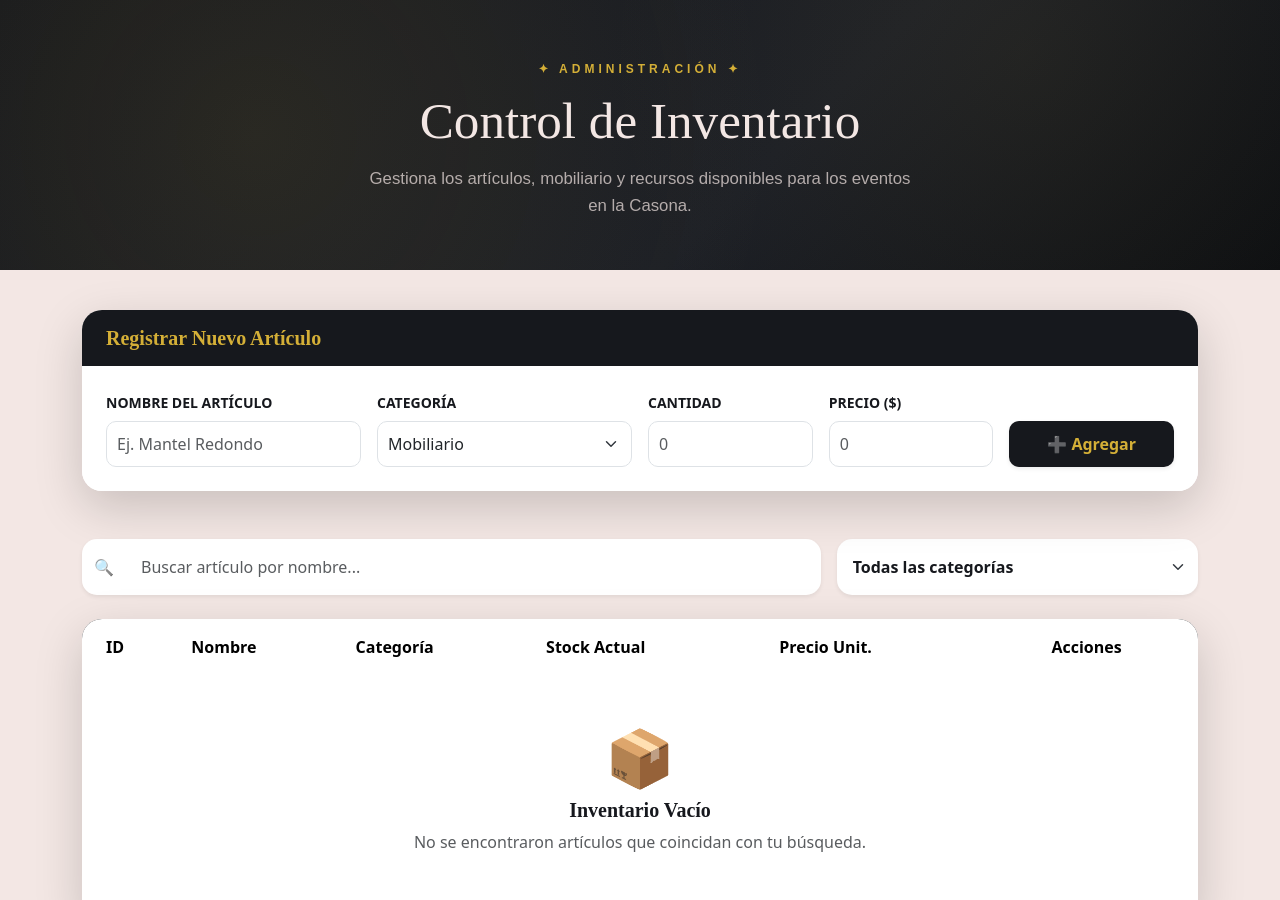
Test: CP-00X: Pruebas de Gestión de Inventario/Stock - Frontend › 2. Debe capturar datos en el formulario y permitir agregar un nuevo artículo
Simulamos que el admin escribe un nuevo producto
In the field with placeholder "Ej. Mantel Redondo": (234, 444) [106,421,361,467], type "Mesa Imperial"
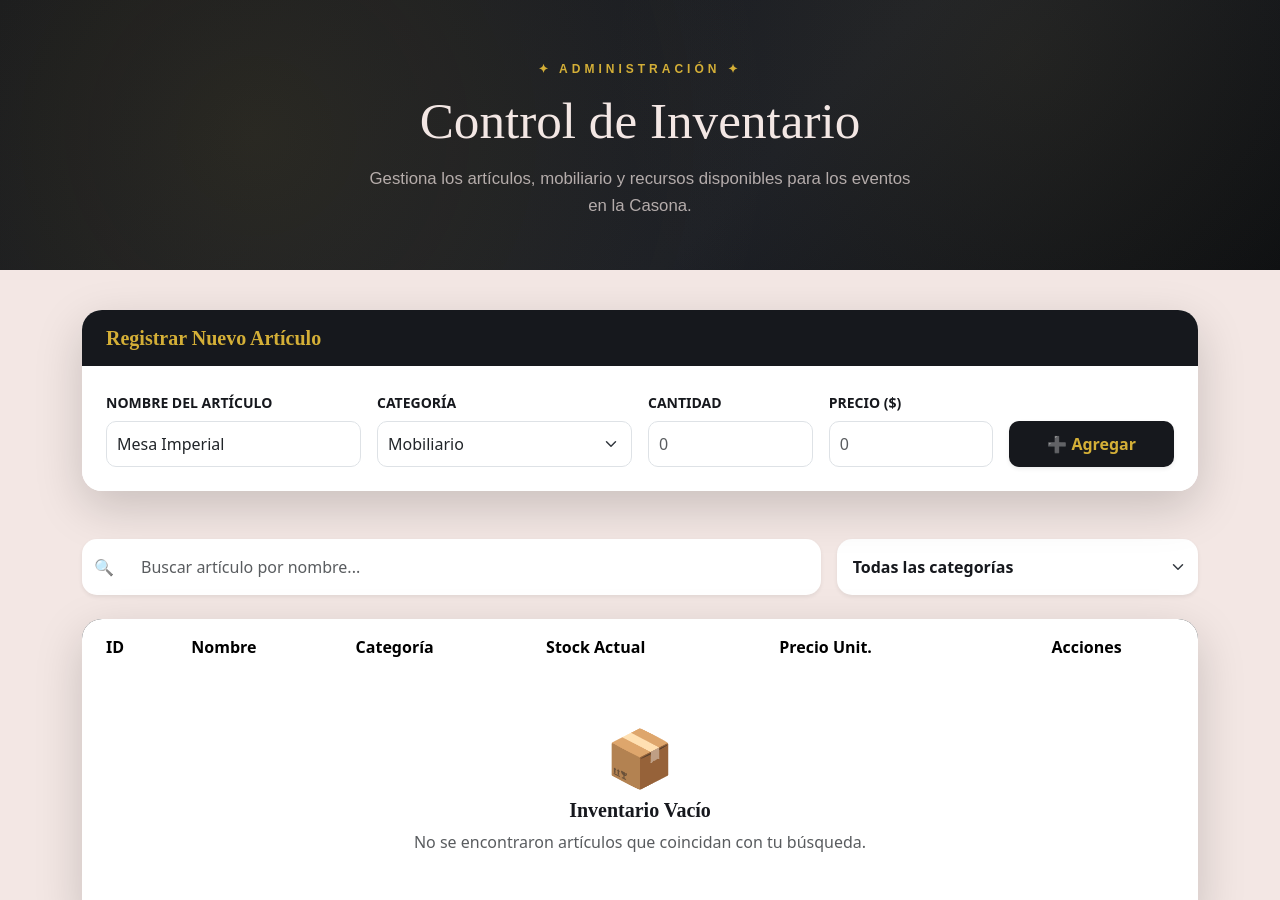
In the number field with placeholder "0" below "CANTIDAD": (730, 444) [648,421,813,467], type "10"
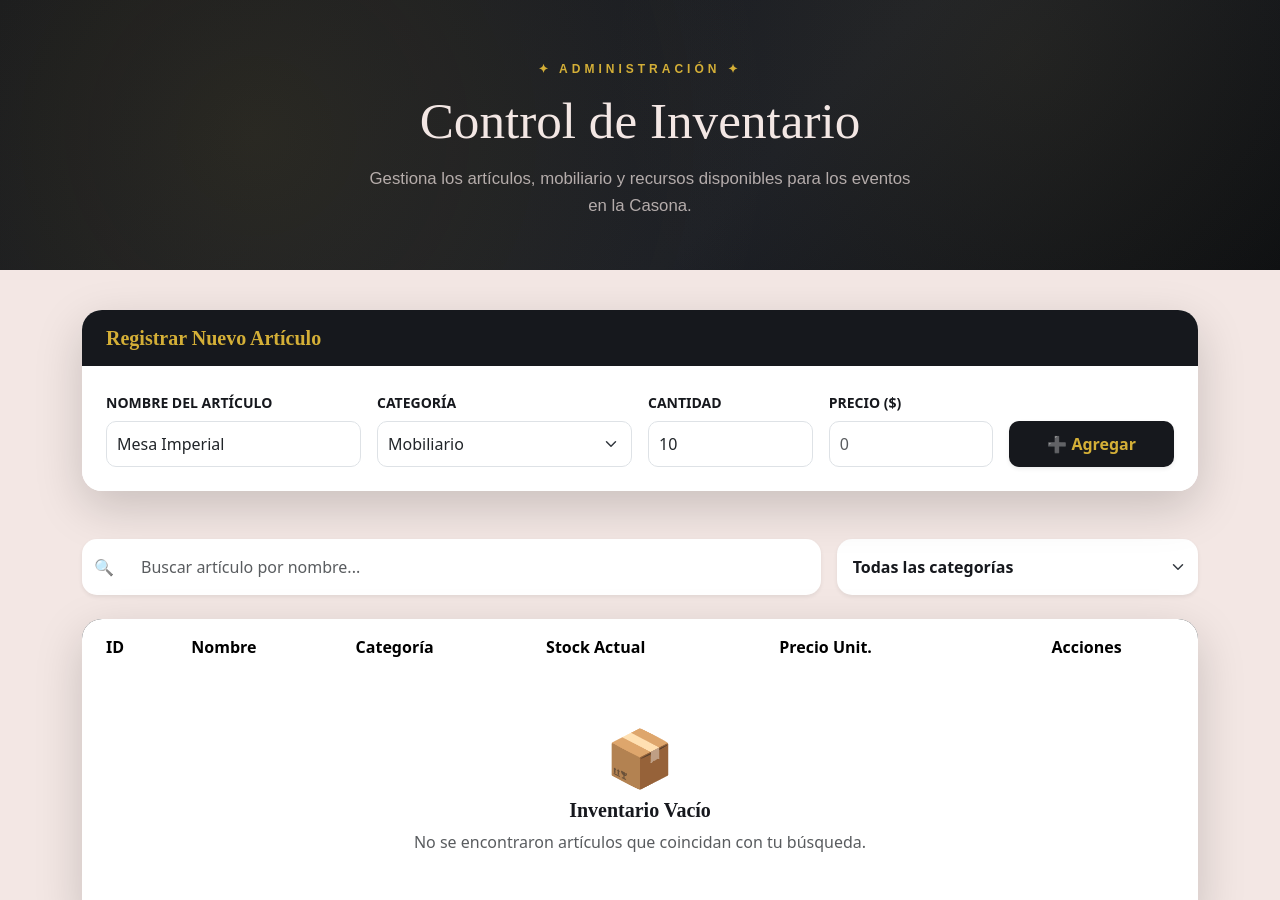
In the number field with placeholder "0": (911, 444) [829,421,993,467], type "5000"
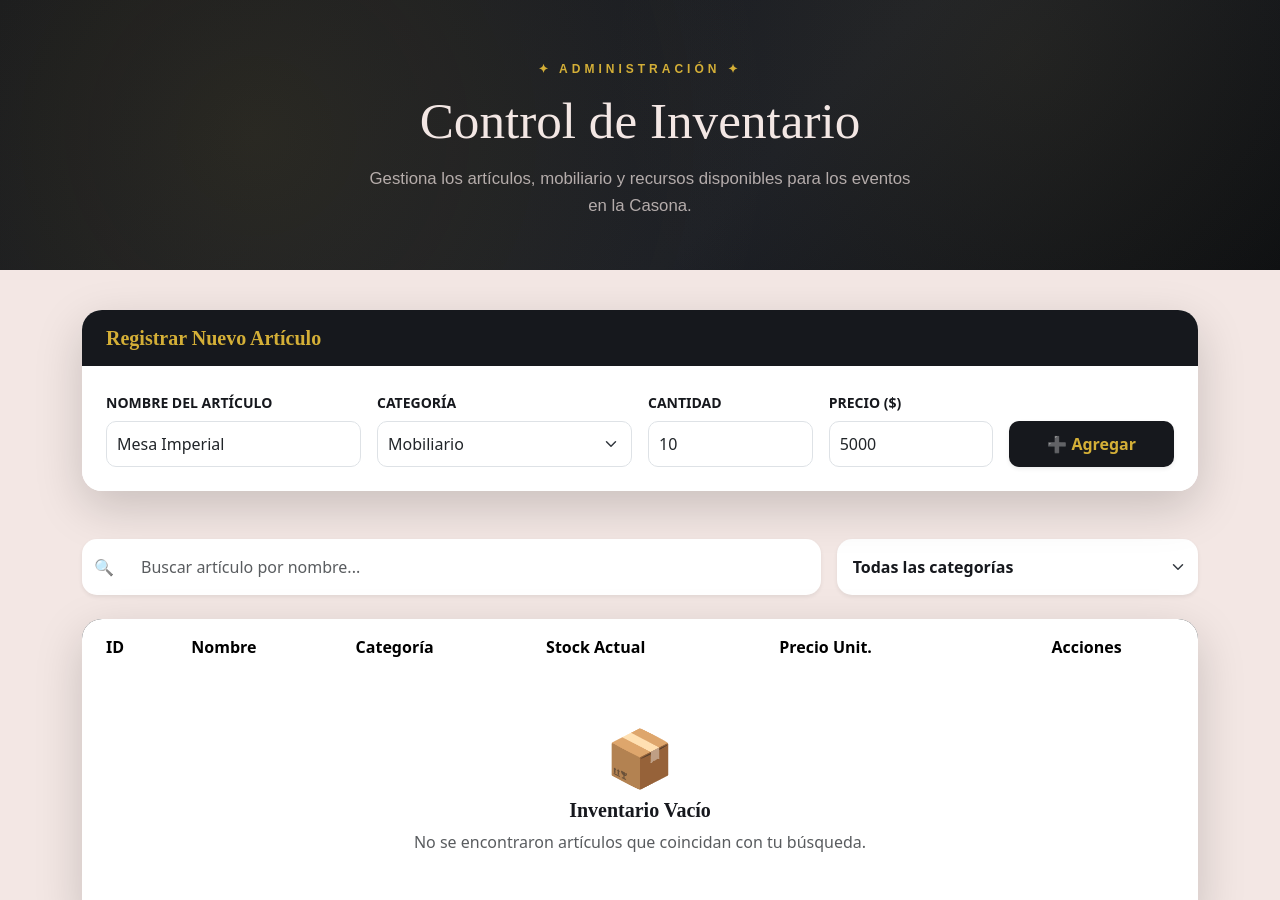
Hacemos clic en el botón de Agregar
Click the button "➕ Agregar": (1092, 444) [1009,421,1174,467]
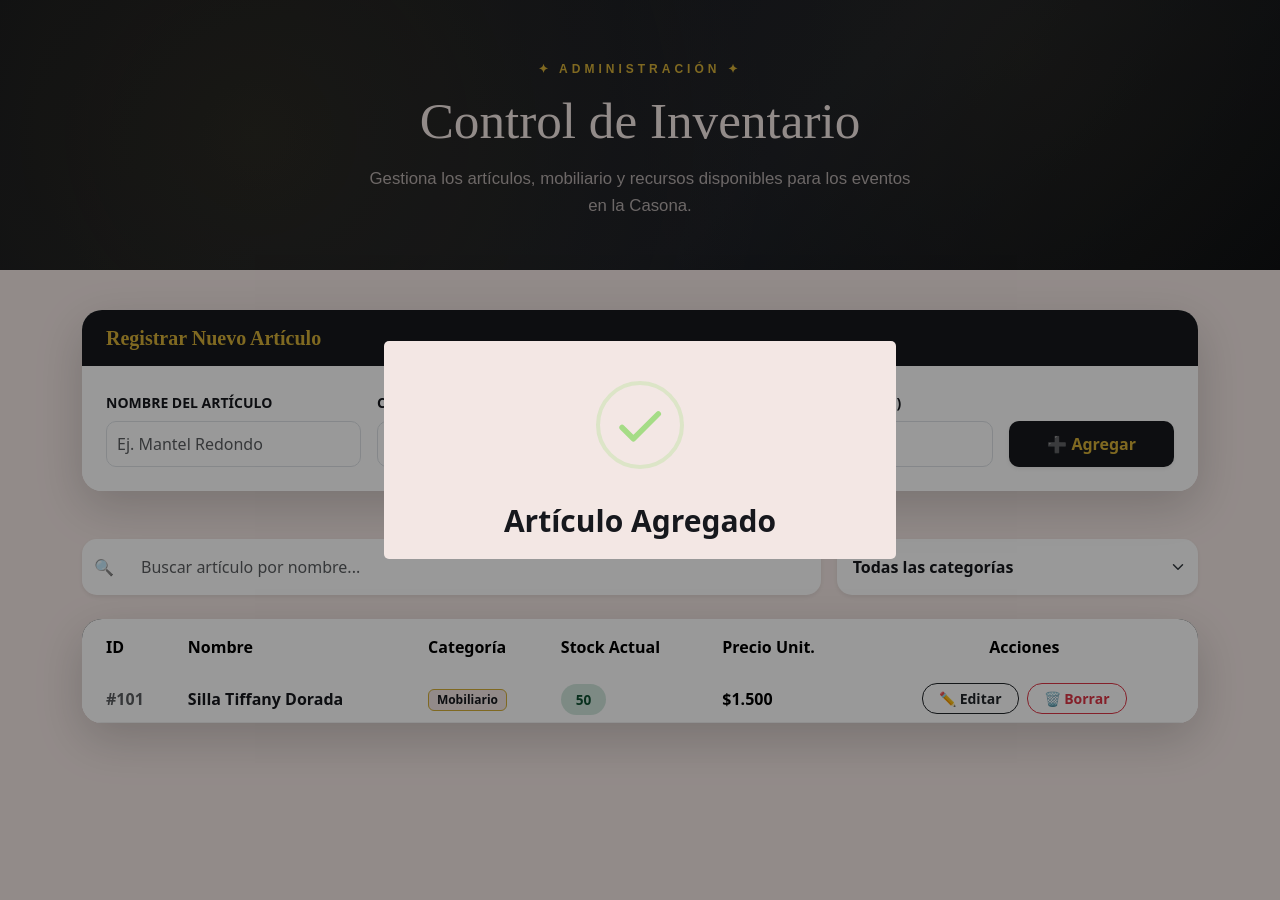
expect the heading "Artículo Agregado" is shown: met, box [504,500,776,541]
